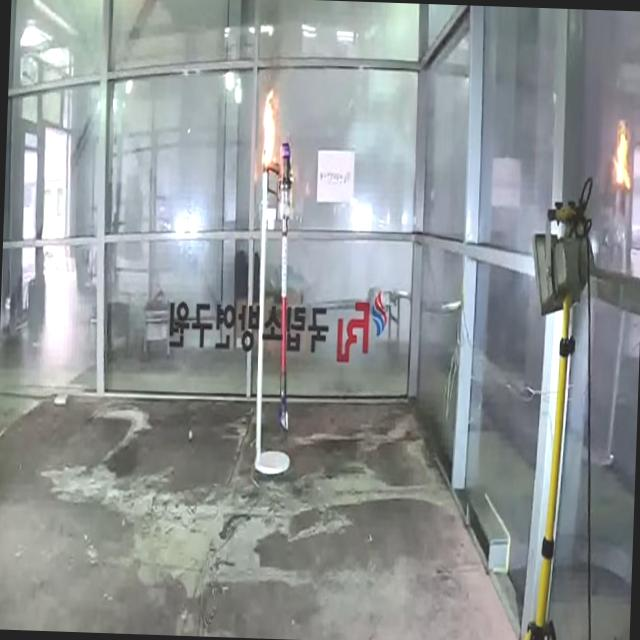fire: (240, 66, 288, 196), (599, 105, 638, 210)
